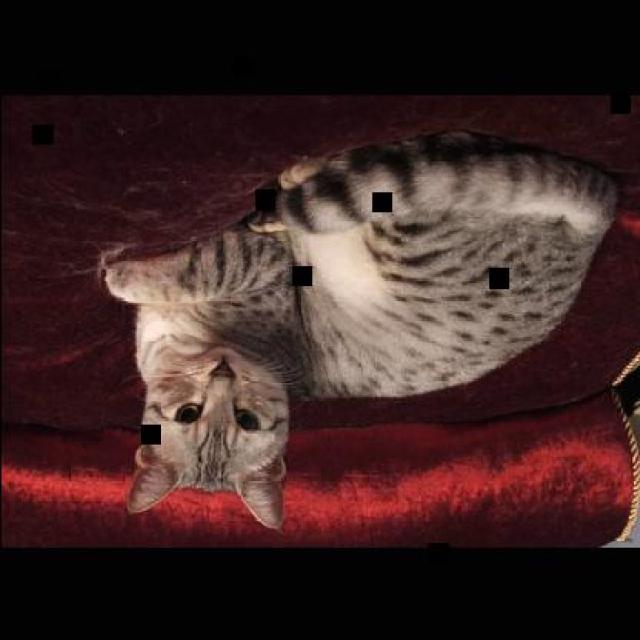unauthorized: (98, 126, 620, 531)
